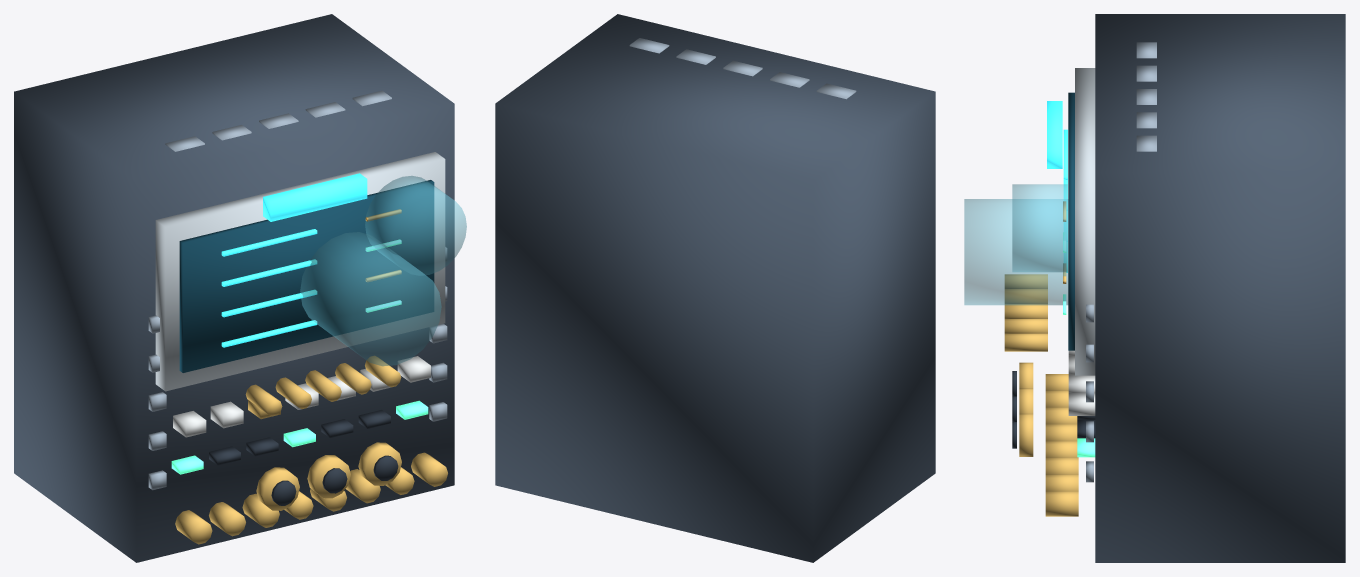
Rendered from 19_L89_PrimaryParticleCounter.glb.
3 views of the same model, side by side, from view 1: azimuth 30°, elevation 25°; view 2: azimuth 150°, elevation 25°; view 3: azimuth 270°, elevation 25° (orthographic). The views are drawn at different scales.
Visible parts, largest first — view 1: L87_PrimaryParticleCounter_Part_0000, L87_PrimaryParticleCounter_Part_0002, L87_PrimaryParticleCounter_Part_0009, L87_PrimaryParticleCounter_Part_0001, L87_PrimaryParticleCounter_Part_0004, L87_PrimaryParticleCounter_Part_0008, L87_PrimaryParticleCounter_Part_0006, L87_PrimaryParticleCounter_Part_0010, L87_PrimaryParticleCounter_Part_0003, L87_PrimaryParticleCounter_Part_0007, L87_PrimaryParticleCounter_Part_0005, L87_PrimaryParticleCounter_Part_0013 (+2 smaller); view 2: L87_PrimaryParticleCounter_Part_0000, L87_PrimaryParticleCounter_Part_0008; view 3: L87_PrimaryParticleCounter_Part_0000, L87_PrimaryParticleCounter_Part_0009, L87_PrimaryParticleCounter_Part_0004, L87_PrimaryParticleCounter_Part_0001, L87_PrimaryParticleCounter_Part_0008, L87_PrimaryParticleCounter_Part_0002, L87_PrimaryParticleCounter_Part_0006, L87_PrimaryParticleCounter_Part_0010, L87_PrimaryParticleCounter_Part_0015, L87_PrimaryParticleCounter_Part_0003, L87_PrimaryParticleCounter_Part_0005.
Part boxes in pixels (x1,y1,x2,y2): L87_PrimaryParticleCounter_Part_0000: (14,14,454,562); L87_PrimaryParticleCounter_Part_0002: (179,180,434,372); L87_PrimaryParticleCounter_Part_0009: (300,176,466,366); L87_PrimaryParticleCounter_Part_0001: (155,152,445,391); L87_PrimaryParticleCounter_Part_0004: (175,209,447,544); L87_PrimaryParticleCounter_Part_0008: (148,90,447,490); L87_PrimaryParticleCounter_Part_0006: (173,356,430,437); L87_PrimaryParticleCounter_Part_0010: (263,173,367,221); L87_PrimaryParticleCounter_Part_0003: (221,229,317,347); L87_PrimaryParticleCounter_Part_0007: (209,410,390,465); L87_PrimaryParticleCounter_Part_0005: (171,239,428,474); L87_PrimaryParticleCounter_Part_0013: (307,455,350,498); L87_PrimaryParticleCounter_Part_0000: (495,14,935,562); L87_PrimaryParticleCounter_Part_0008: (629,38,856,99); L87_PrimaryParticleCounter_Part_0000: (1095,14,1345,562); L87_PrimaryParticleCounter_Part_0009: (964,184,1068,305); L87_PrimaryParticleCounter_Part_0004: (1004,201,1078,516); L87_PrimaryParticleCounter_Part_0001: (1075,68,1095,375); L87_PrimaryParticleCounter_Part_0008: (1086,42,1156,482); L87_PrimaryParticleCounter_Part_0002: (1068,92,1074,350); L87_PrimaryParticleCounter_Part_0006: (1068,350,1095,415); L87_PrimaryParticleCounter_Part_0010: (1047,101,1062,168); L87_PrimaryParticleCounter_Part_0015: (1019,413,1033,456); L87_PrimaryParticleCounter_Part_0003: (1063,129,1067,272); L87_PrimaryParticleCounter_Part_0005: (1063,232,1095,457).
Size of the model in its own units: 1.12 by 1.29 by 1.14.
